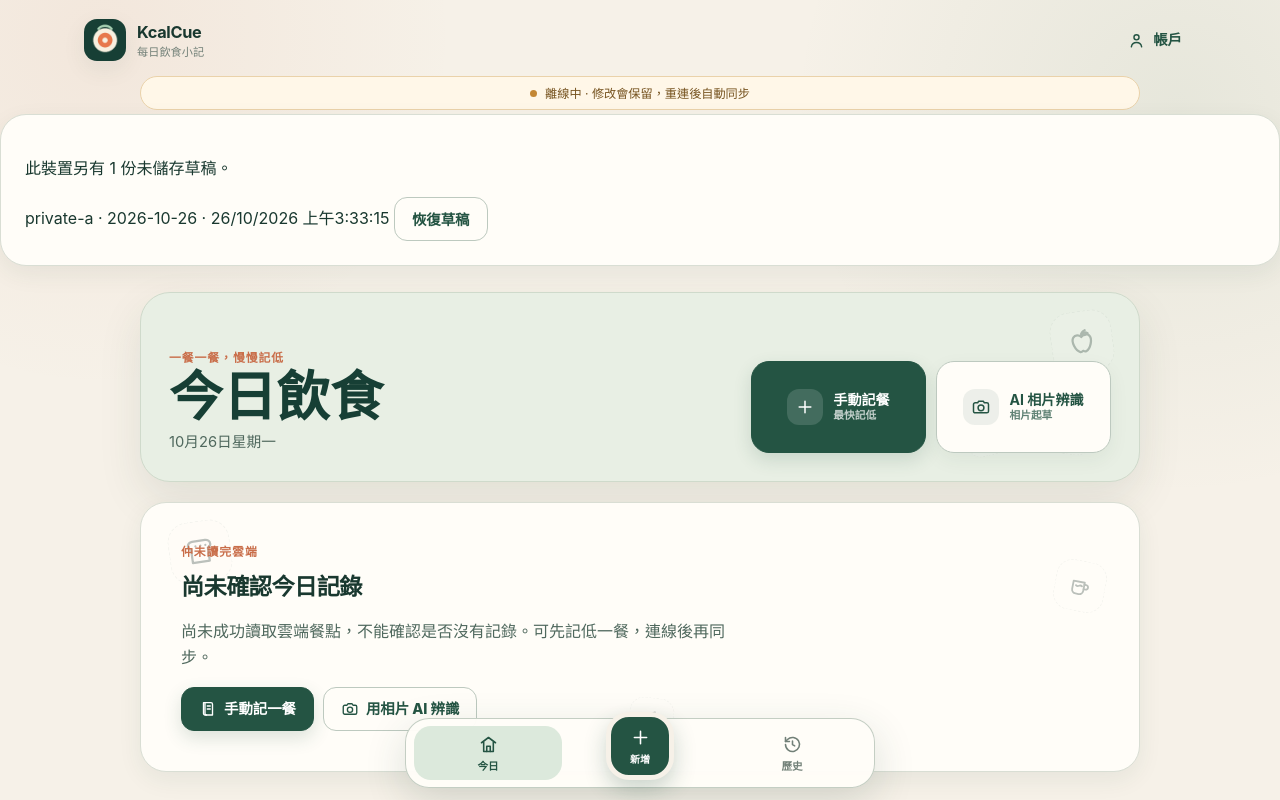
Test case: does not show A's recoverable draft after its delayed refresh completes under B
Check: the text "private-a" is shown, box [25,209,94,229]
Click the button "恢復草稿". click: click(441, 219)
box: [394,197,488,241]
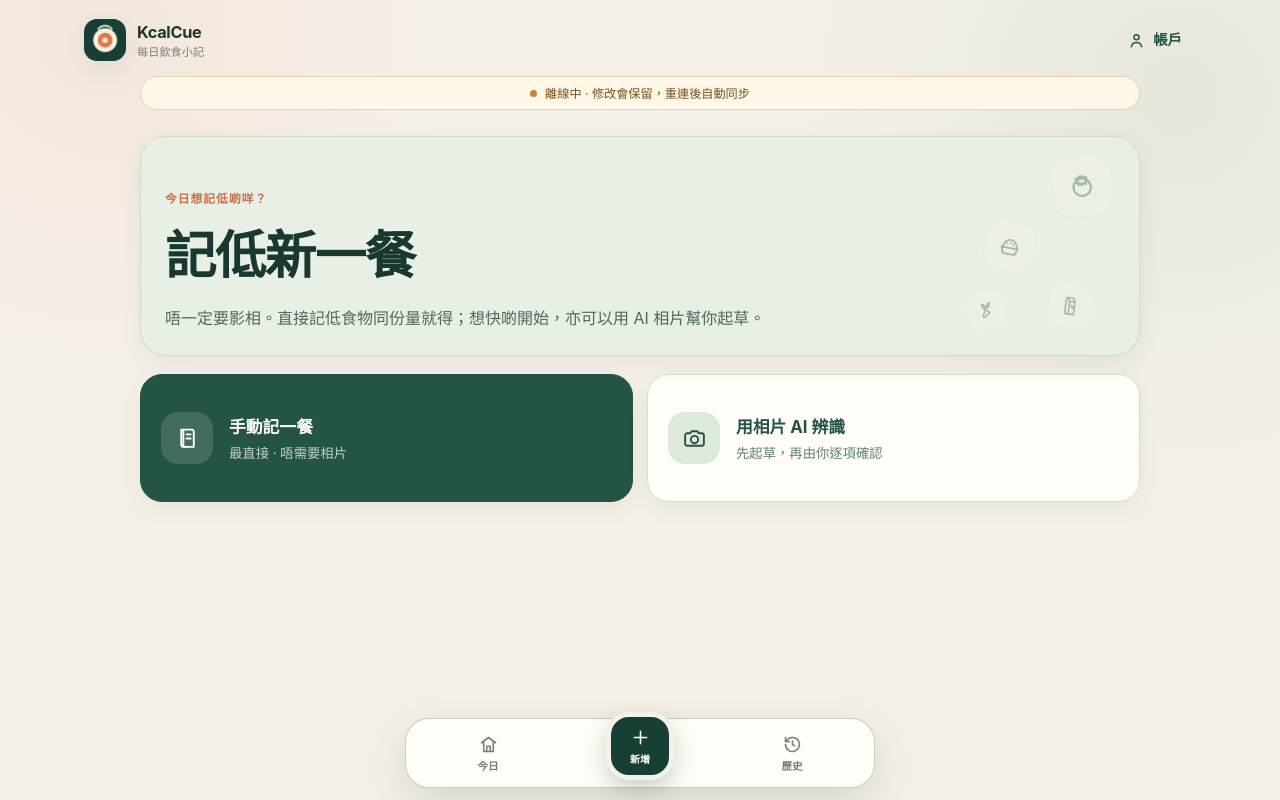
Click the button "今日". click: click(488, 753)
box: [414,726,562,780]
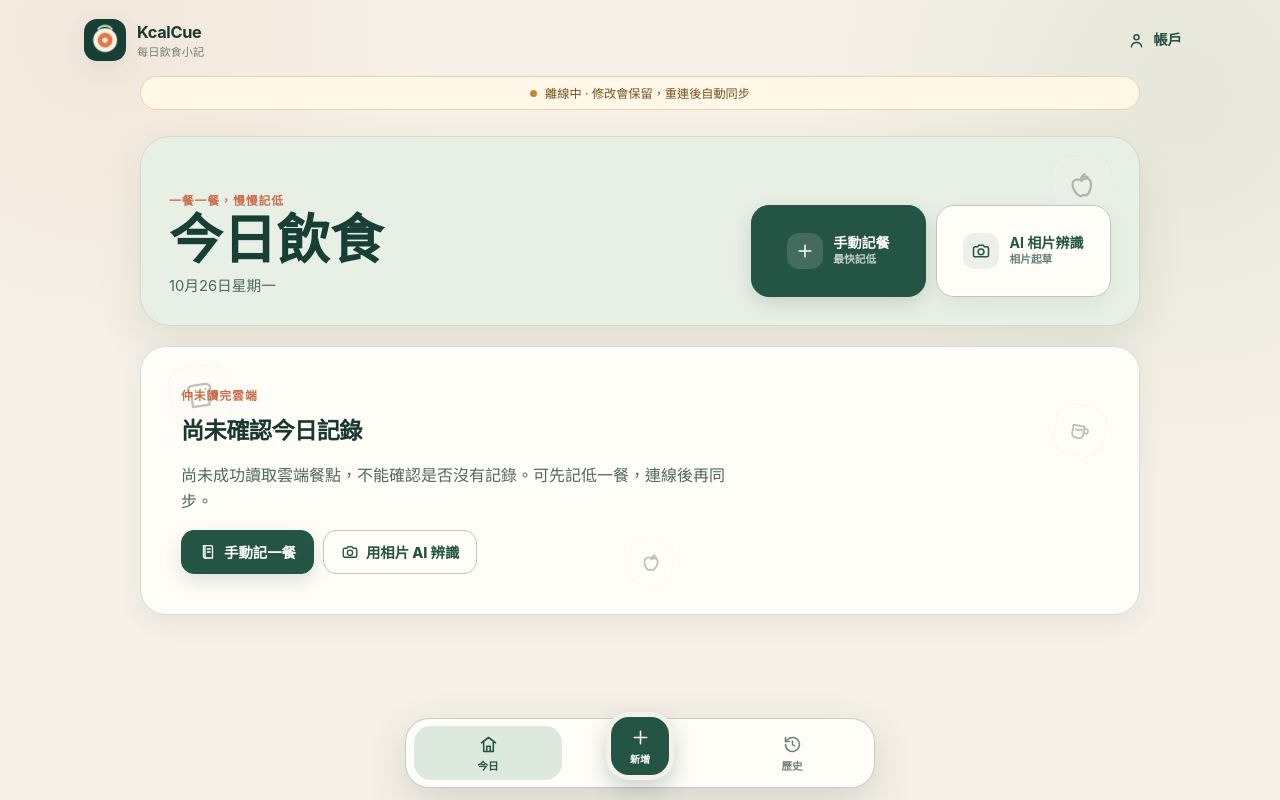
Check: the text "private-a" is not shown
Check: the heading "尚未確認今日記錄" is shown, box [181,416,362,444]
